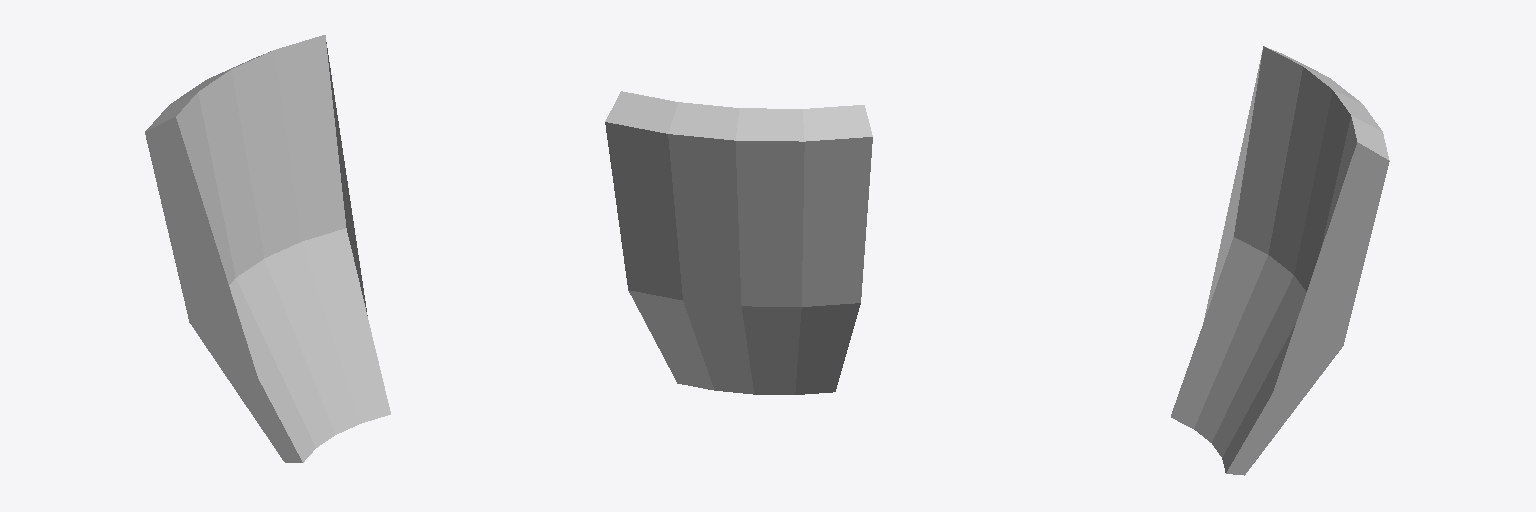
The model's file is Level_3_8.obj.
3 views of the same model, side by side, from view 1: azimuth 30°, elevation 25°; view 2: azimuth 150°, elevation 25°; view 3: azimuth 270°, elevation 25° (orthographic).
Parts seen in each view (by area): view 1: Level_3_8_Cylinder.044; view 2: Level_3_8_Cylinder.044; view 3: Level_3_8_Cylinder.044.
Boxes of the visible parts, <box> form: Level_3_8_Cylinder.044: <box>145,35,390,462</box>; Level_3_8_Cylinder.044: <box>605,91,872,394</box>; Level_3_8_Cylinder.044: <box>1171,46,1389,475</box>.
Bounding box in the file's own units: 1.51 × 2.23 × 1.33.